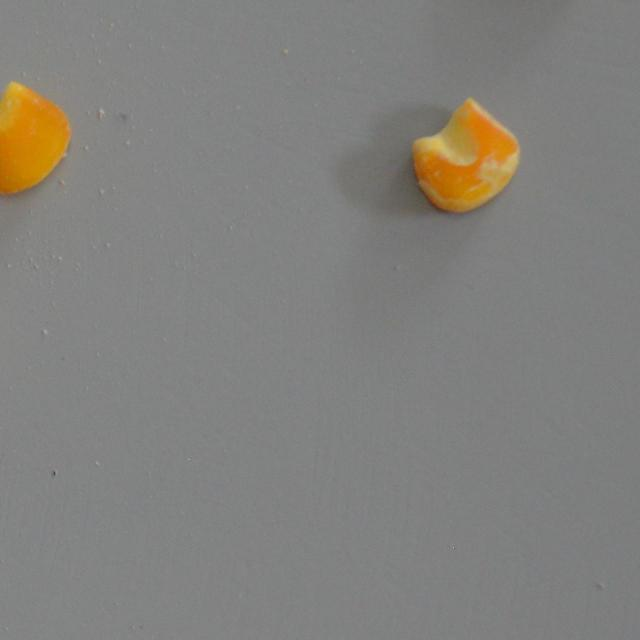no_canjicado: (0, 82, 75, 199)
pelicula: (410, 96, 520, 212)
